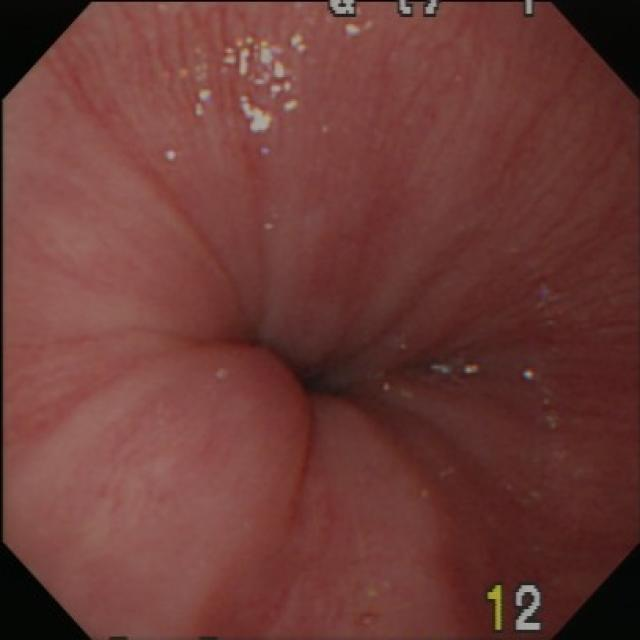I: (172, 213, 476, 513)
S: (485, 581, 547, 636), (325, 3, 545, 18)
U: (220, 30, 313, 140), (430, 359, 482, 381), (194, 85, 215, 121), (344, 21, 377, 37), (520, 369, 537, 383)
